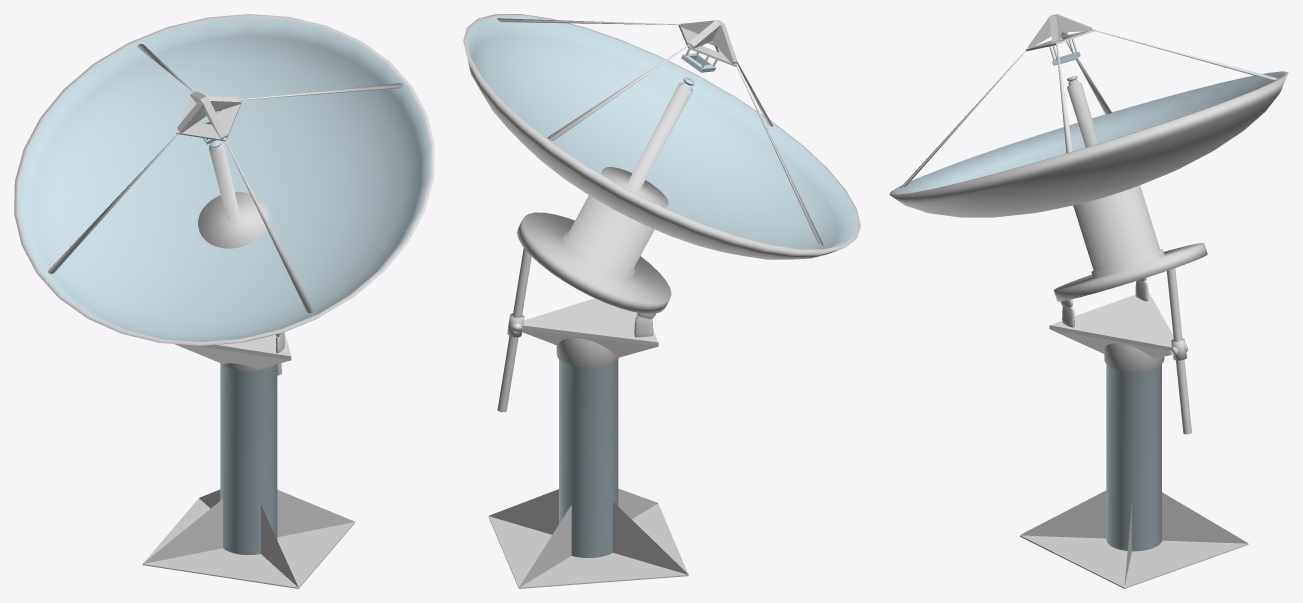
The model's file is parabola.gltf.
3 views of the same model, side by side, from view 1: azimuth 30°, elevation 25°; view 2: azimuth 150°, elevation 25°; view 3: azimuth 270°, elevation 25° (orthographic). The views are drawn at different scales.
Parts seen in each view (by area): view 1: Sphere.002, Cube.021, Cylinder.117, Cylinder.119, Cylinder.126, Cube.022, Cube.029, Cube.028; view 2: Sphere.002, Cube.021, Cylinder.117, Cylinder.119, Cube.022, Cylinder.126, Cylinder.118, Cube.029, Cube.028; view 3: Sphere.002, Cylinder.117, Cube.021, Cylinder.119, Cube.022, Cylinder.126, Cylinder.118, Cube.029.
Boxes of the visible parts, x1=… form: Sphere.002: x1=14, y1=14, x2=434, y2=345; Cube.021: x1=142, y1=489, x2=354, y2=588; Cylinder.117: x1=220, y1=363, x2=277, y2=554; Cylinder.119: x1=198, y1=191, x2=268, y2=248; Cylinder.126: x1=48, y1=44, x2=403, y2=313; Cube.022: x1=174, y1=332, x2=291, y2=369; Cube.029: x1=177, y1=91, x2=240, y2=139; Cube.028: x1=176, y1=92, x2=241, y2=141; Sphere.002: x1=463, y1=14, x2=860, y2=259; Cube.021: x1=488, y1=488, x2=688, y2=588; Cylinder.117: x1=556, y1=338, x2=618, y2=557; Cylinder.119: x1=517, y1=167, x2=671, y2=313; Cube.022: x1=522, y1=298, x2=658, y2=357; Cylinder.126: x1=497, y1=18, x2=823, y2=245; Cylinder.118: x1=497, y1=247, x2=531, y2=412; Cube.029: x1=679, y1=20, x2=737, y2=64; Cube.028: x1=678, y1=25, x2=736, y2=66; Sphere.002: x1=889, y1=71, x2=1288, y2=217; Cylinder.117: x1=1104, y1=343, x2=1164, y2=551; Cube.021: x1=1020, y1=490, x2=1248, y2=588; Cylinder.119: x1=1054, y1=185, x2=1207, y2=301; Cube.022: x1=1049, y1=292, x2=1173, y2=358; Cylinder.126: x1=900, y1=29, x2=1278, y2=187; Cylinder.118: x1=1166, y1=268, x2=1191, y2=434; Cube.029: x1=1027, y1=14, x2=1092, y2=49.
Size of the model in its own units: 8.72 by 11.95 by 8.87.
